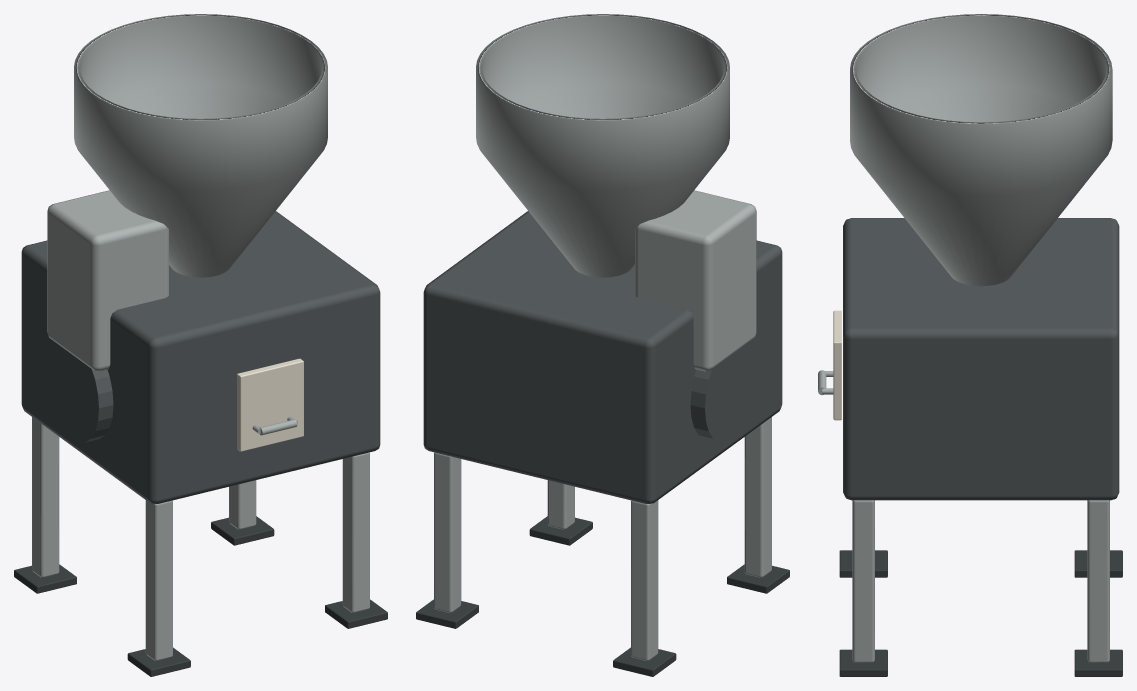
File: coffee-roastery-and-cupping-room-coffee-roastery-and-c-bb00daf3__32200.glb
3 views of the same model, side by side, from view 1: azimuth 30°, elevation 25°; view 2: azimuth 150°, elevation 25°; view 3: azimuth 270°, elevation 25° (orthographic). The views are drawn at different scales.
Parts seen in each view (by area): view 1: coffee-roastery-and-cupping-room-roasted-bean-destoner; view 2: coffee-roastery-and-cupping-room-roasted-bean-destoner; view 3: coffee-roastery-and-cupping-room-roasted-bean-destoner.
Part boxes in pixels (x1,y1,x2,y2): coffee-roastery-and-cupping-room-roasted-bean-destoner: [14, 14, 387, 676]; coffee-roastery-and-cupping-room-roasted-bean-destoner: [416, 14, 789, 676]; coffee-roastery-and-cupping-room-roasted-bean-destoner: [818, 14, 1122, 676].
Size of the model in its own units: 0.865 by 1.75 by 0.882.
